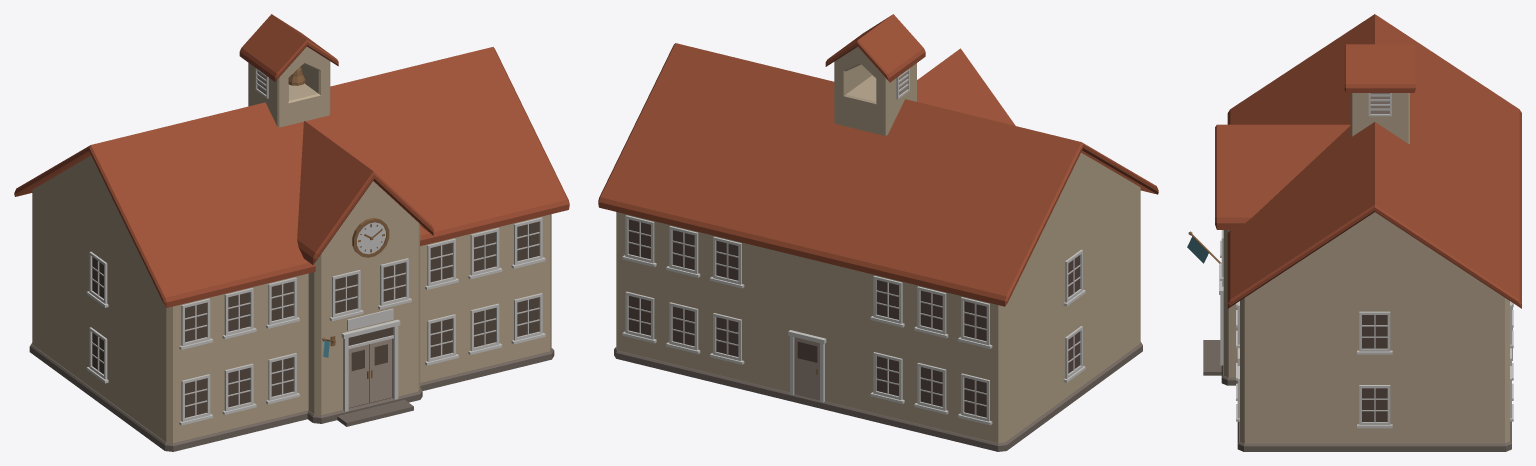
File: toy-town-school-fa7bb1.glb
3 renders of one model, left to right at view 1: azimuth 30°, elevation 25°; view 2: azimuth 150°, elevation 25°; view 3: azimuth 270°, elevation 25°, orthographic. The views are drawn at different scales.
Parts seen in each view (by area): view 1: school-body, door-r-leaf, door-l-leaf; view 2: school-body; view 3: school-body.
Boxes of the visible parts, left/top/right/bottom form: school-body: left=14, top=14, right=569, bottom=451; door-r-leaf: left=369, top=339, right=392, bottom=402; door-l-leaf: left=348, top=344, right=369, bottom=407; school-body: left=598, top=14, right=1158, bottom=451; school-body: left=1188, top=14, right=1521, bottom=451.
Size of the model in its own units: 16.84 by 12.9 by 12.41.
